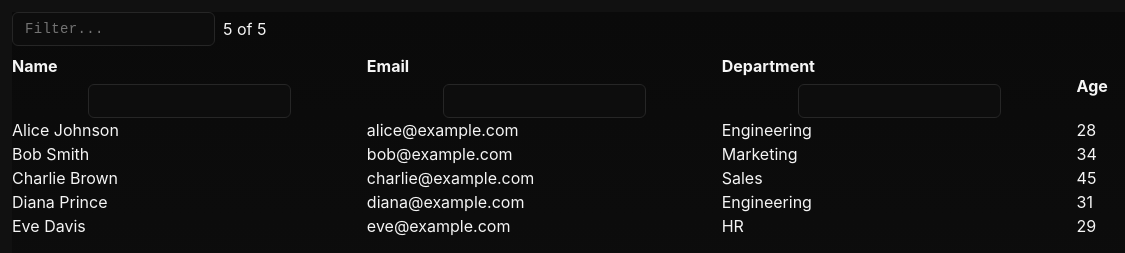
Test: DataTable - Filtering › filters by specific column
Type "Engineering" into the field named "Filter Department" at (899, 101), box [798, 84, 1001, 118]
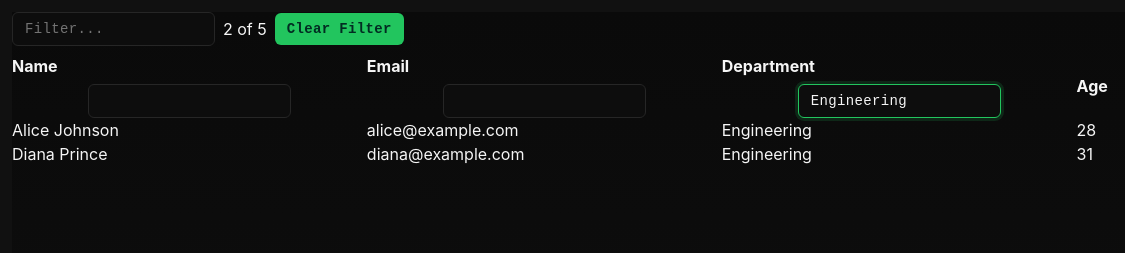
Expected: the text "Alice Johnson" is shown, [12, 120, 119, 140]
Now the text "Bob Smith" is gone
